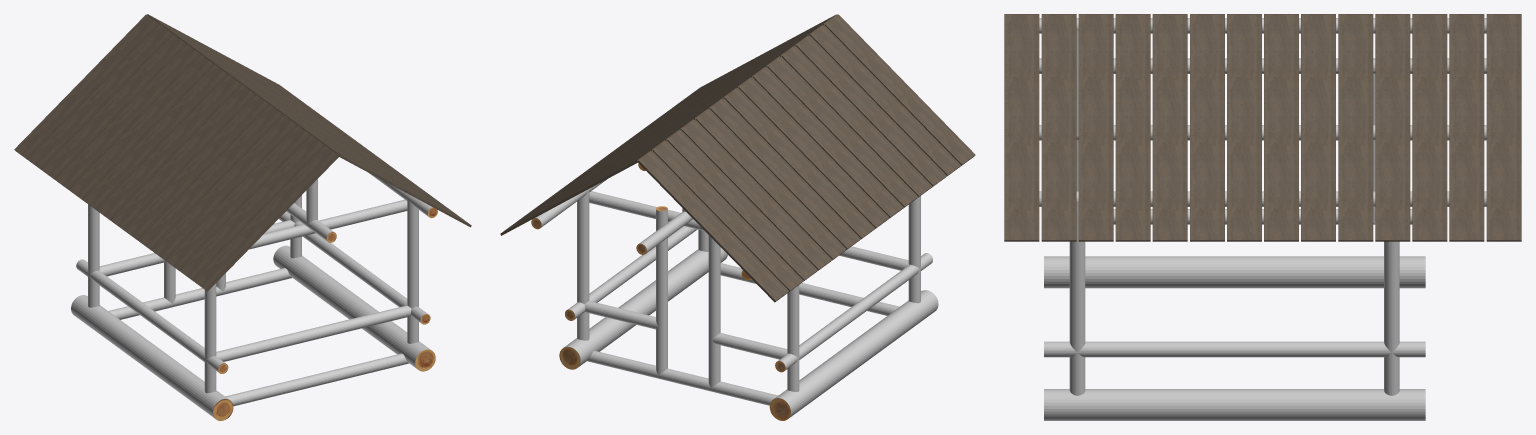
Rendered from WoodenBarn1.fbx.
The picture shows the model from 3 angles, left to right: view 1: azimuth 30°, elevation 25°; view 2: azimuth 150°, elevation 25°; view 3: azimuth 270°, elevation 25°; orthographic projection. The views are drawn at different scales.
Visible parts, largest first — view 1: Cube.007, Cylinder.020; view 2: Cube.007, Cylinder.020; view 3: Cube.007, Cylinder.020.
Boxes of the visible parts, bbox=[...] form: Cube.007: bbox=[14, 14, 471, 291]; Cylinder.020: bbox=[71, 173, 437, 420]; Cube.007: bbox=[500, 14, 975, 302]; Cylinder.020: bbox=[531, 163, 938, 420]; Cube.007: bbox=[1004, 14, 1521, 241]; Cylinder.020: bbox=[1039, 18, 1486, 420].
Bounding box in the file's own units: 1050 × 951 × 1317.
